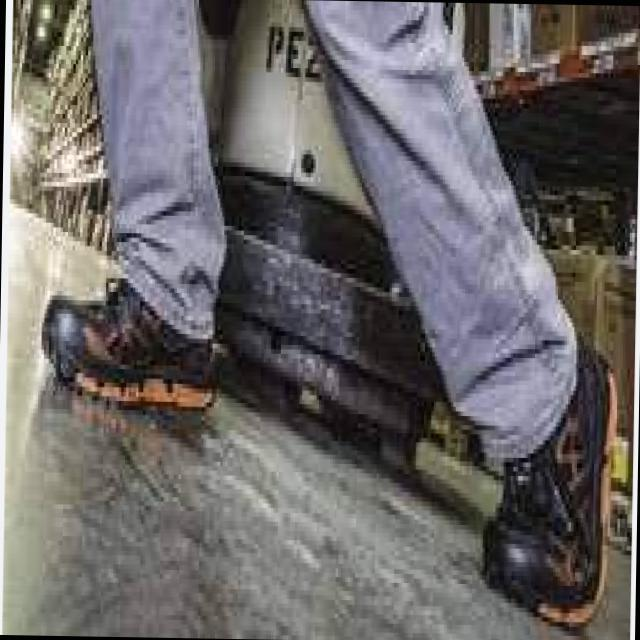boots: (35, 248, 622, 635)
